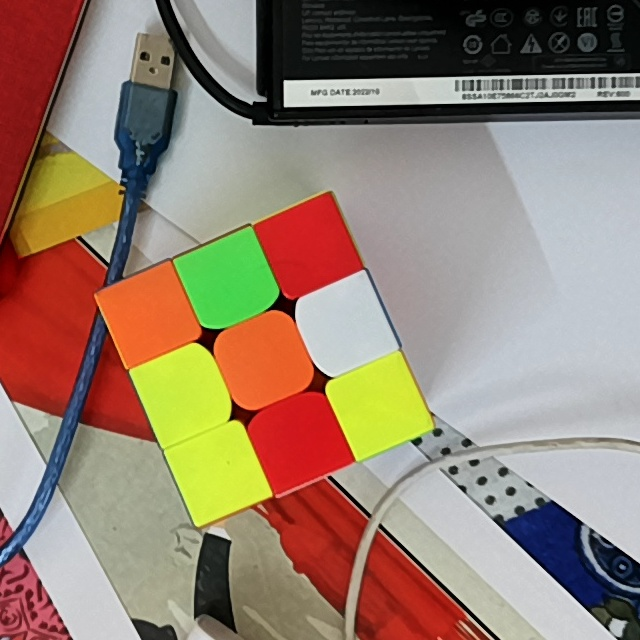tile: (265, 408, 332, 469), (151, 362, 213, 426), (232, 329, 294, 392), (316, 293, 376, 358), (118, 284, 180, 346), (276, 215, 339, 276), (346, 376, 408, 436), (190, 441, 249, 501), (197, 253, 255, 309)
